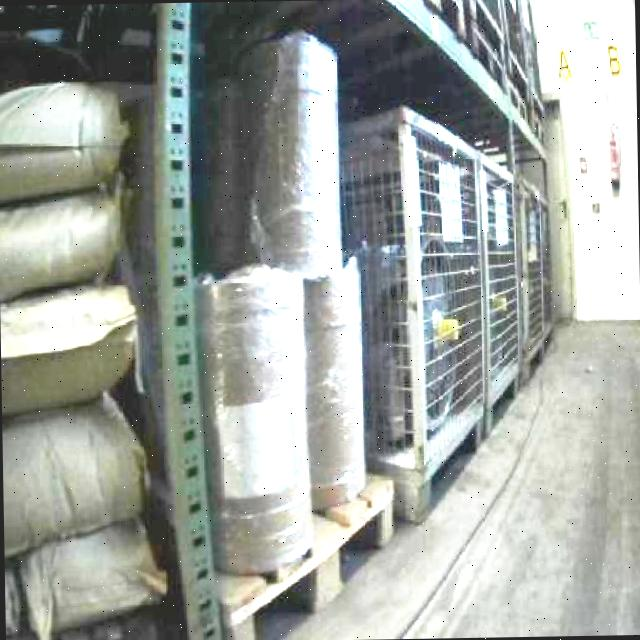ground: (249, 316, 640, 640)
pallet: (144, 0, 398, 640), (336, 99, 533, 523), (3, 468, 398, 640), (212, 469, 398, 640)
